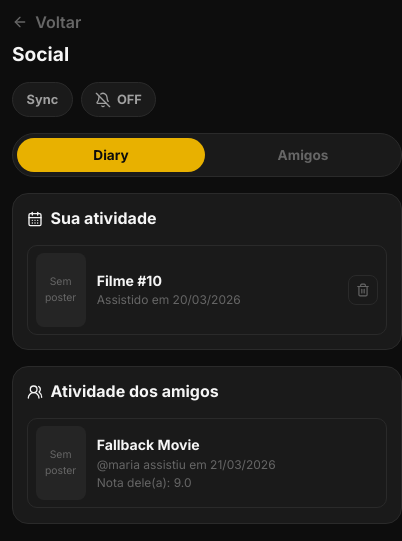
Test case: DiaryPage › separates diary and friend management into different tabs
The image size is (402, 541).
Check: the heading "Sua atividade" is shown, box [27,209,156,228]
Check: the text "gerenciar amigos" is not shown
Click the tab "Amigos" at (303, 155), box [209,138,397,172]
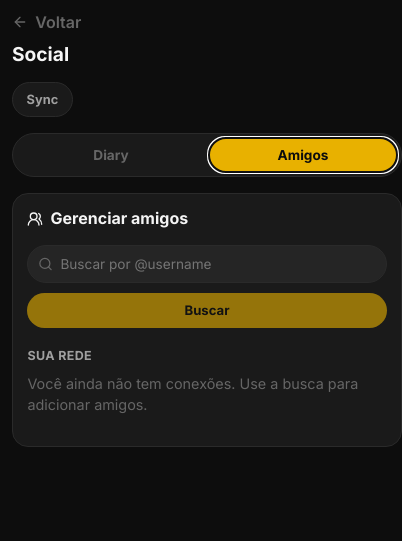
Check: the heading "Gerenciar amigos" is shown, box [27,209,188,228]
Check: the heading "Sua atividade" is gone
